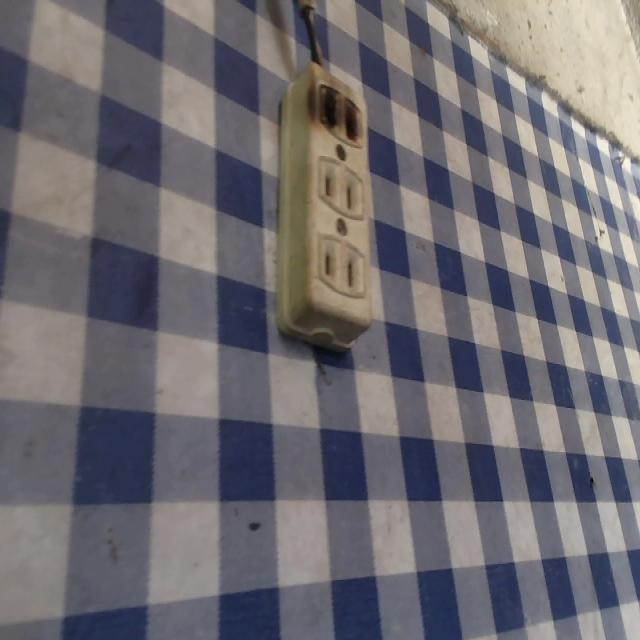-: (309, 75, 372, 152)
